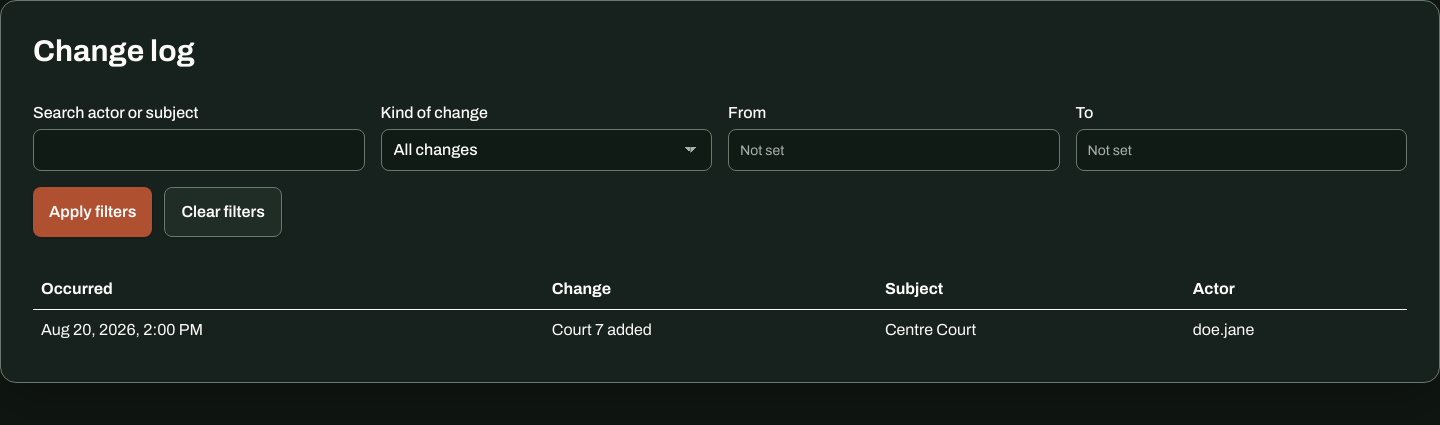
it: AdminAuditView › given a broad search reaches the server scan limit, when its page is shown, then it is not presented as complete
The width and height of the screenshot is (1440, 425).
Check: the row with test id "audit-row" is shown, box [33,310,1407,350]
Type "rare value" into the field with test id "audit-filter-query" at (199, 150), box [33,129,364,171]
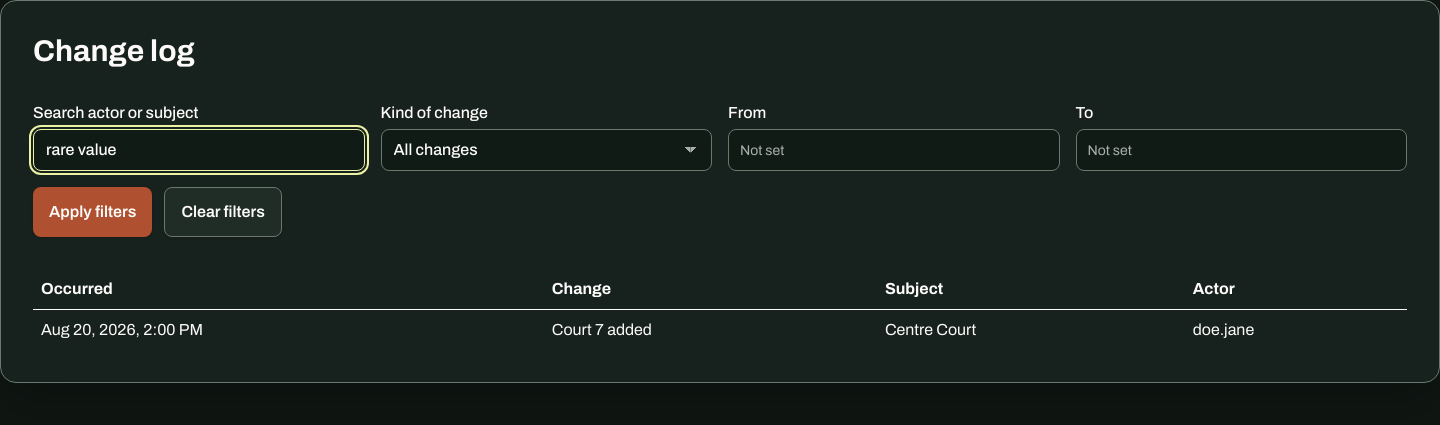
Click the button with test id "audit-filter-apply" at (93, 212), box [33,187,152,237]
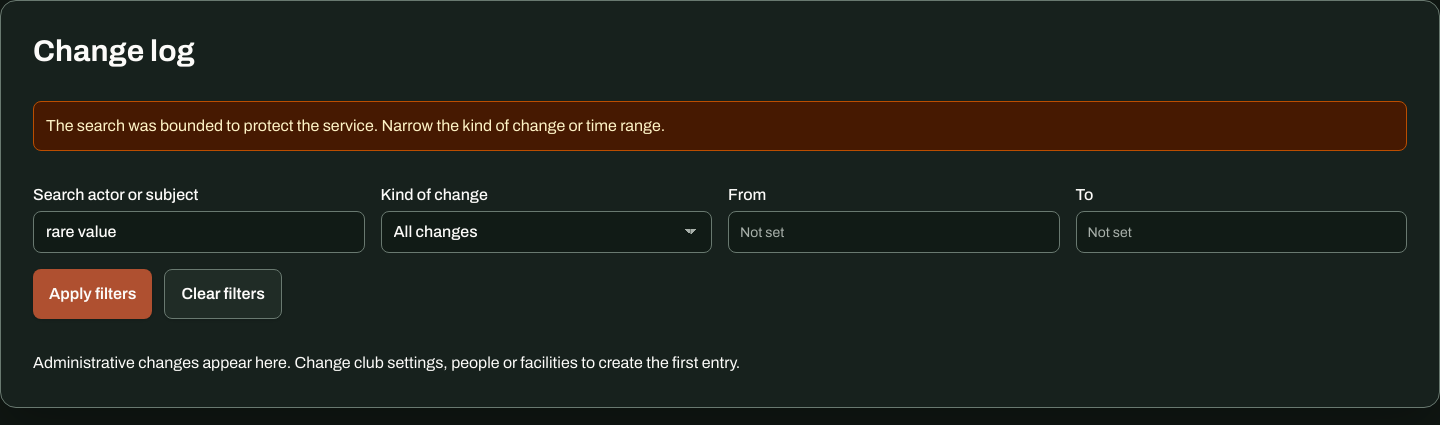
Check: the message with test id "audit-search-incomplete" shows "Narrow the kind of change or time range", box [46,117,665,134]
